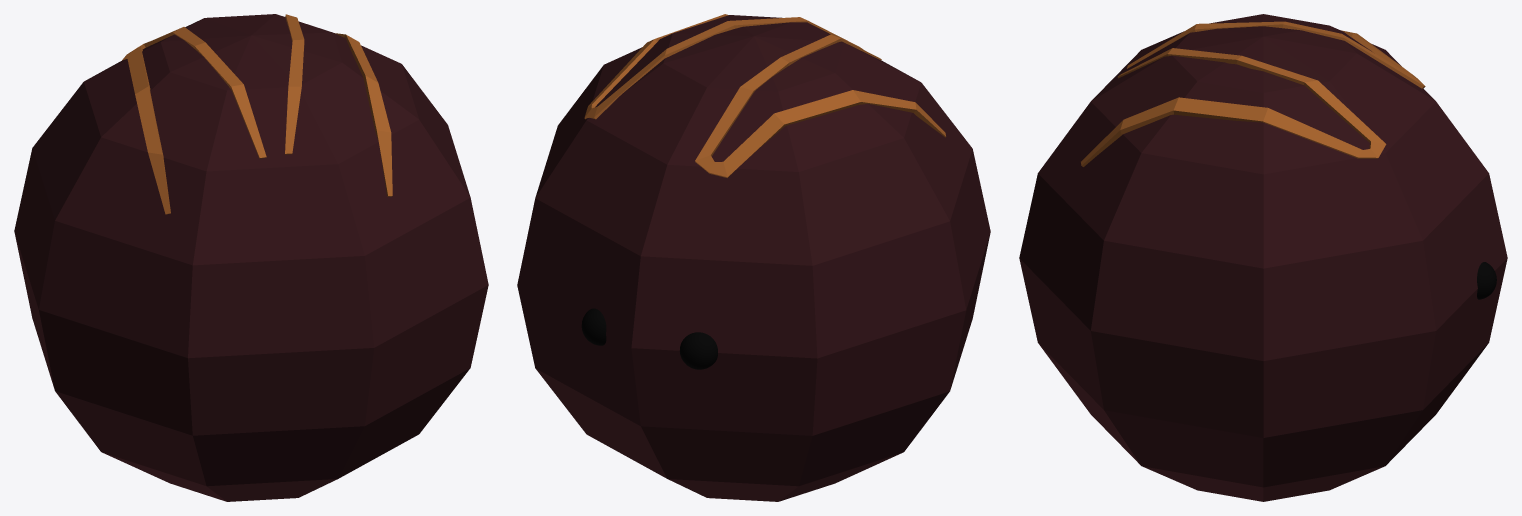
File: BonBonMonster.fbx
3 views of the same model, side by side, from view 1: azimuth 30°, elevation 25°; view 2: azimuth 150°, elevation 25°; view 3: azimuth 270°, elevation 25° (orthographic).
Parts seen in each view (by area): view 1: truffleChocolate; view 2: truffleChocolate; view 3: truffleChocolate.
Boxes of the visible parts, x1,y1,x2,y2 form: truffleChocolate: (14,14,488,501); truffleChocolate: (517,14,990,501); truffleChocolate: (1019,14,1507,501).
Bounding box in the file's own units: 200 × 200 × 200.
